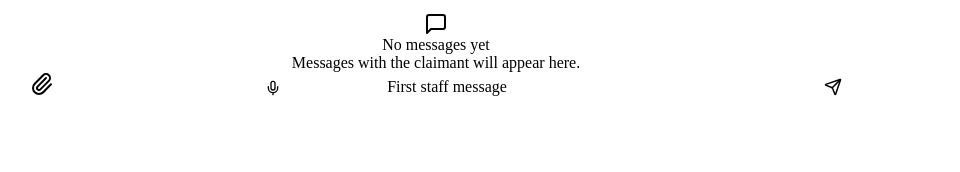
it: Conversation › preserves a follow-up draft typed while the first message is sending
Click the button named "Send message" at (833, 87), box [718,78,948,96]
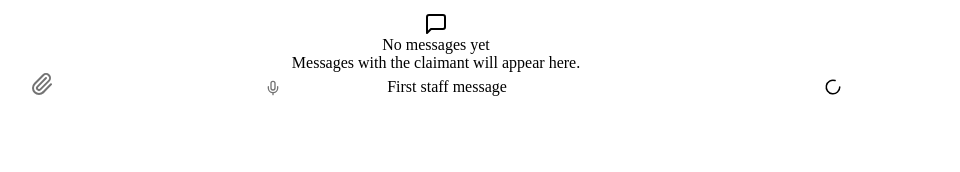
Clear the text box named "Message to claimant" at (553, 87), box [387,78,718,96]
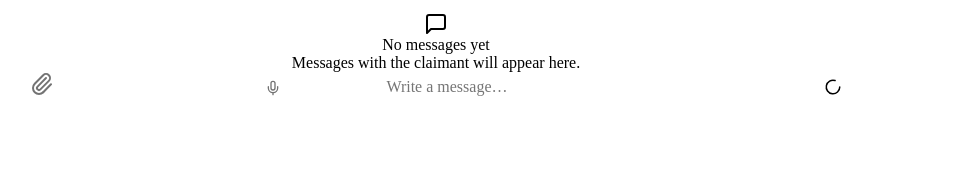
Type "Follow-up draft written while sending" into the text box named "Message to claimant" at (553, 87), box [386,78,719,96]
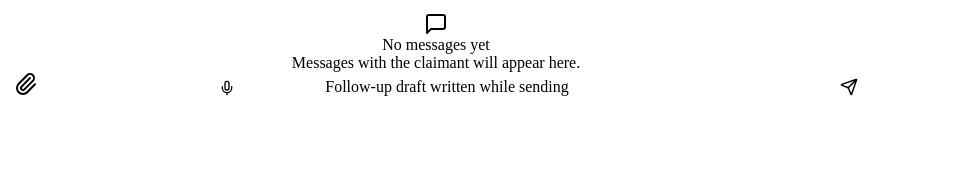
Expected: the button named "Send message" is enabled, [749,78,948,96]
